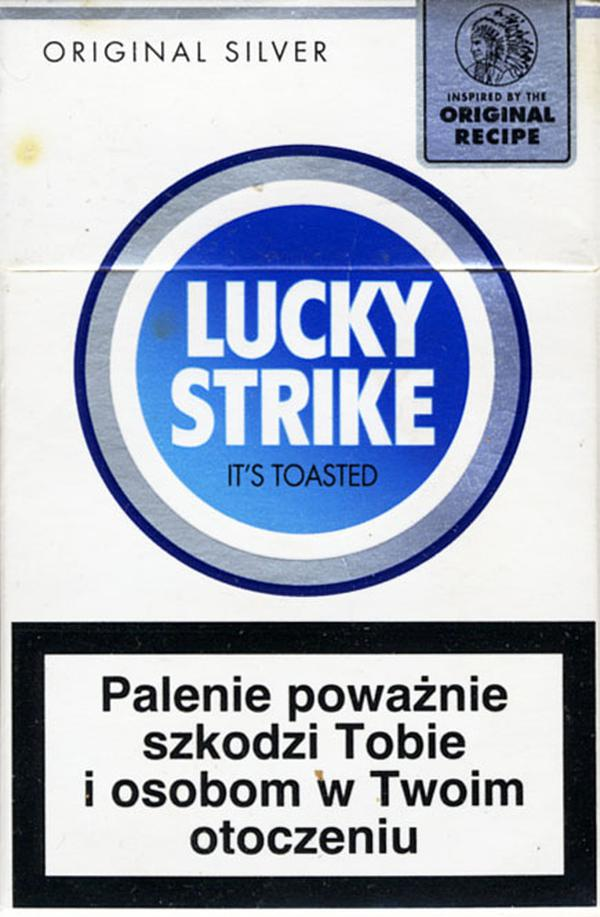lucky_strike_blue: (1, 13, 598, 908)
